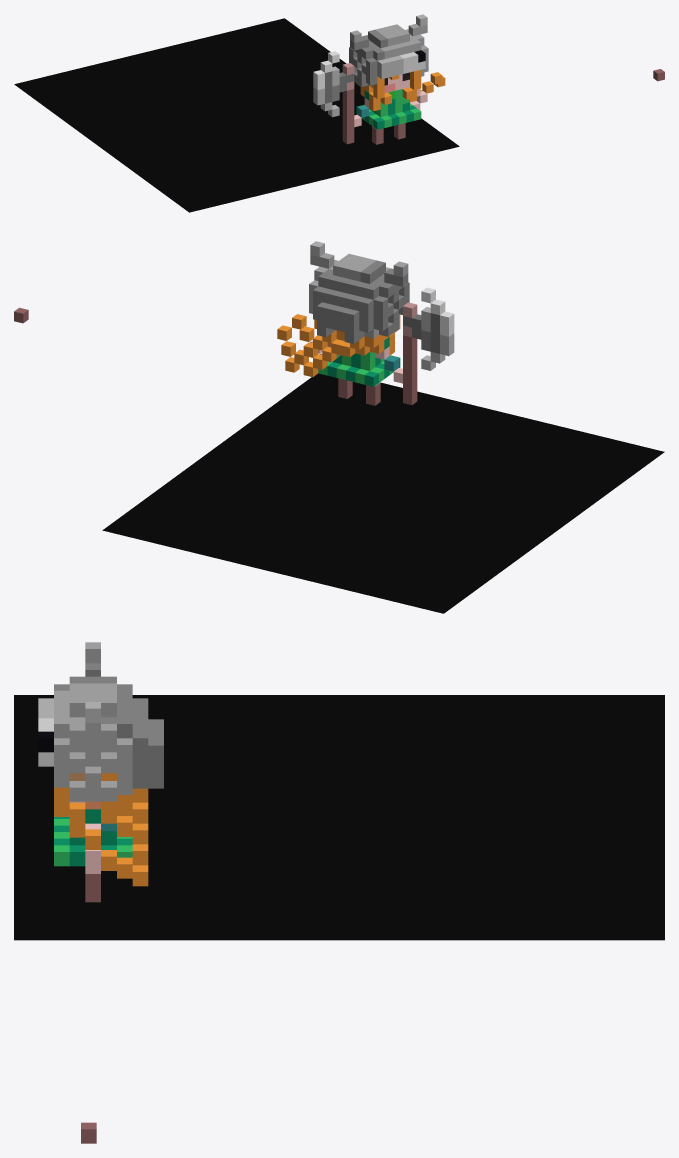
Rendered from kng_fnsh.glb.
3 views of the same model, one above another, from view 1: azimuth 30°, elevation 25°; view 2: azimuth 150°, elevation 25°; view 3: azimuth 270°, elevation 25° (orthographic). The views are drawn at different scales.
Visible parts, largest first — view 1: Plane; view 2: Plane; view 3: Plane.
Boxes of the visible parts, bbox=[...] form: Plane: bbox=[14, 18, 459, 212]; Plane: bbox=[102, 373, 664, 613]; Plane: bbox=[14, 695, 664, 940].
Bounding box in the file's own units: 67.4 × 15.51 × 41.46.
Materials: 22 (1 with a texture image).
